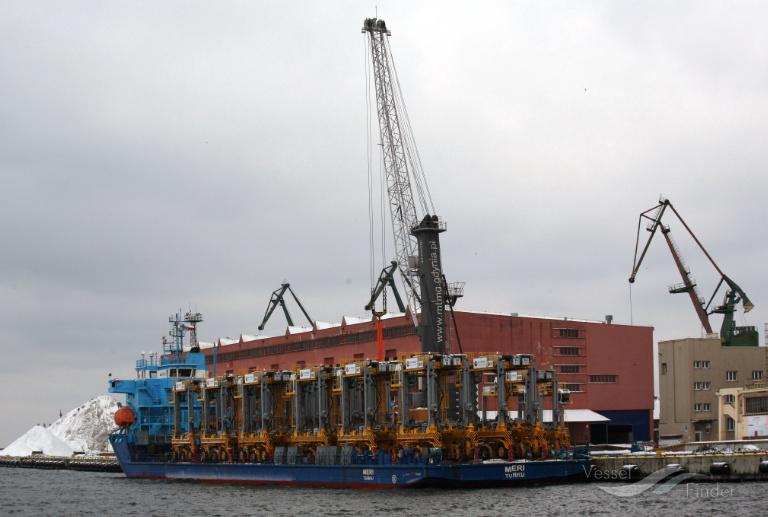OCR: (495, 463, 529, 477)
